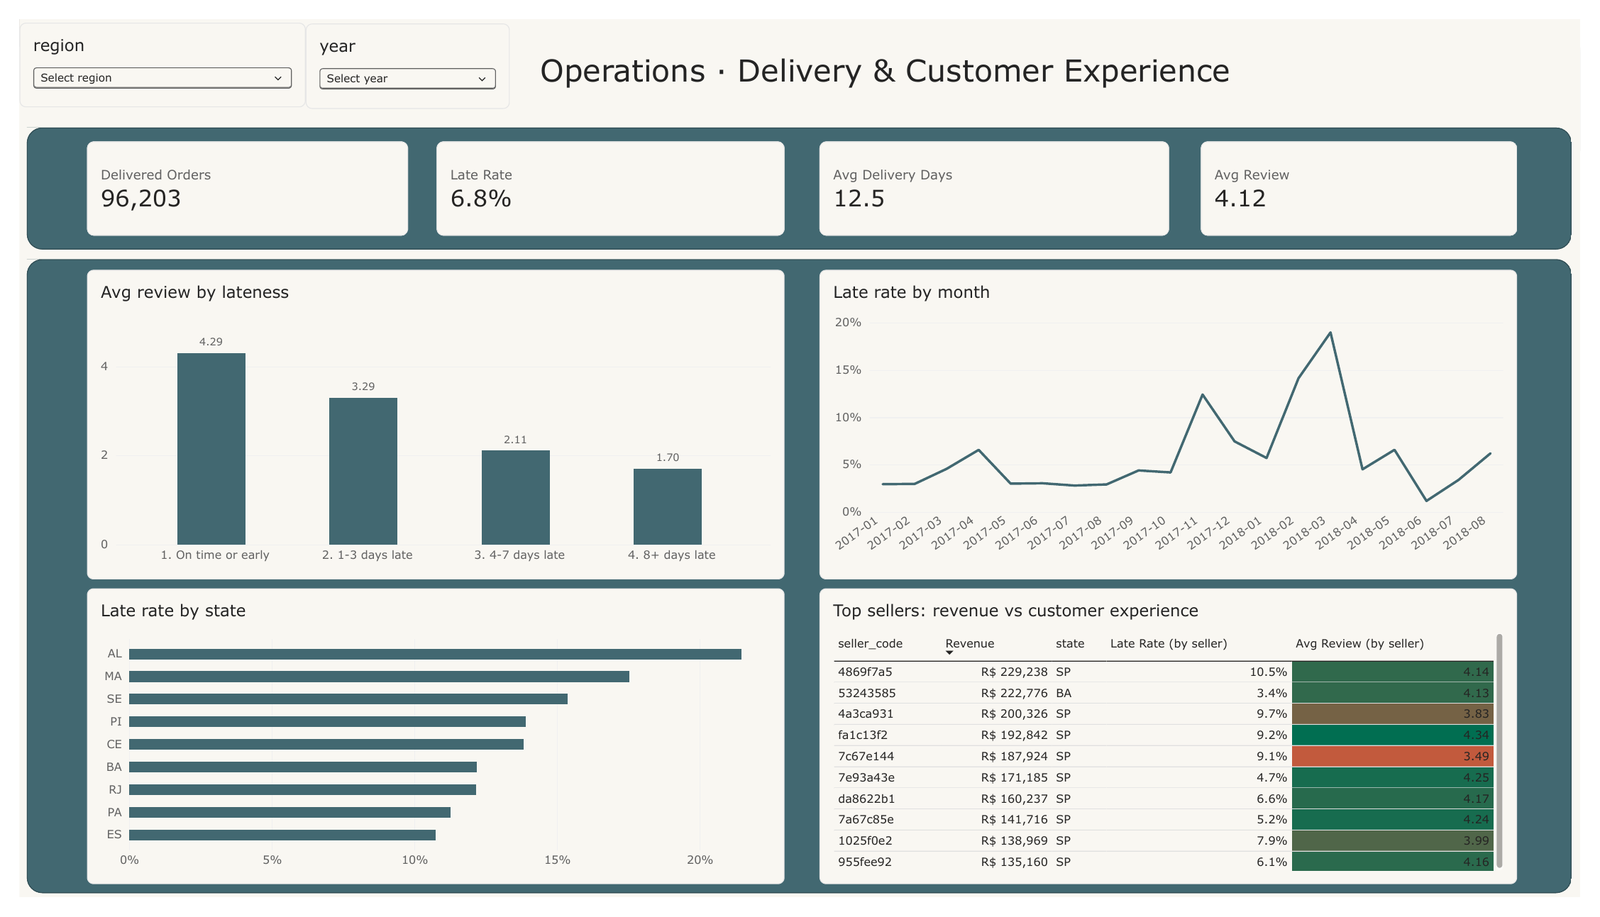

What the dashboard file says about the page in this screenshot:
{"tool":"powerbi","page":{"name":"Operations","canvas":[1920,1080],"ordinal":1},"visuals":[{"type":"textbox","box":[10,0,280,105.7],"z":0},{"type":"textbox","box":[603.1,39.1,923.4,75],"z":1000},{"type":"shape","box":[9.4,133.3,1900,150],"z":2000},{"type":"listSlicer","fields":{"Values":["customer.region"]},"box":[0,3.6,351.6,104.7],"z":3000},{"type":"listSlicer","fields":{"Values":["dim_date.year"]},"box":[351.6,5.1,251.6,104.7],"z":4000},{"type":"cardVisual","fields":{"Data":["_Measures.Late Rate"]},"box":[512.5,150,428.1,115.6],"z":5000},{"type":"cardVisual","fields":{"Data":["_Measures.Avg Delivery Days"]},"box":[984.4,150,429.7,115.6],"z":6000},{"type":"cardVisual","fields":{"Data":["_Measures.Avg Review"]},"box":[1453.1,150,389.1,115.6],"z":7000},{"type":"shape","box":[9.4,295.3,1900,779.7],"z":7500},{"type":"cardVisual","fields":{"Data":["_Measures.Delivered Orders"]},"box":[82.8,150,395.3,115.6],"z":8000},{"type":"lineChart","title":" Late rate by month","fields":{"Category":["dim_date.year_month"],"Y":["_Measures.Late Rate"]},"box":[984.4,307.8,857.8,381.2],"z":9000},{"type":"clusteredBarChart","title":"Late rate by state","fields":{"Category":["customer.state"],"Y":["_Measures.Late Rate"]},"box":[82.8,700,857.8,364.1],"z":11000},{"type":"clusteredColumnChart","title":" Avg review by lateness","fields":{"Category":["orders.Lateness Band"],"Y":["_Measures.Avg Review"]},"box":[82.8,307.8,857.8,381.2],"z":12000},{"type":"tableEx","title":"Top sellers: revenue vs customer experience","fields":{"Values":["seller.seller_code","_Measures.Revenue","seller.state","_Measures.Late Rate (by seller)","_Measures.Avg Review (by seller)"]},"box":[984.4,700,857.8,364.1],"z":14000}]}

Visuals, with their boxes in screenshot pixels (x1, y1, x2, y2), scaled from the page's 1920x1080 canvas onto the 1600x917 screenshot:
textbox: left=8, top=0, right=242, bottom=90
textbox: left=503, top=33, right=1272, bottom=97
shape: left=8, top=113, right=1591, bottom=241
listSlicer - customer.region: left=0, top=3, right=293, bottom=92
listSlicer - dim_date.year: left=293, top=4, right=503, bottom=93
cardVisual - _Measures.Late Rate: left=427, top=127, right=784, bottom=226
cardVisual - _Measures.Avg Delivery Days: left=820, top=127, right=1178, bottom=226
cardVisual - _Measures.Avg Review: left=1211, top=127, right=1535, bottom=226
shape: left=8, top=251, right=1591, bottom=913
cardVisual - _Measures.Delivered Orders: left=69, top=127, right=398, bottom=226
" Late rate by month" lineChart: left=820, top=261, right=1535, bottom=585
"Late rate by state" clusteredBarChart: left=69, top=594, right=784, bottom=903
" Avg review by lateness" clusteredColumnChart: left=69, top=261, right=784, bottom=585
"Top sellers: revenue vs customer experience" tableEx: left=820, top=594, right=1535, bottom=903
